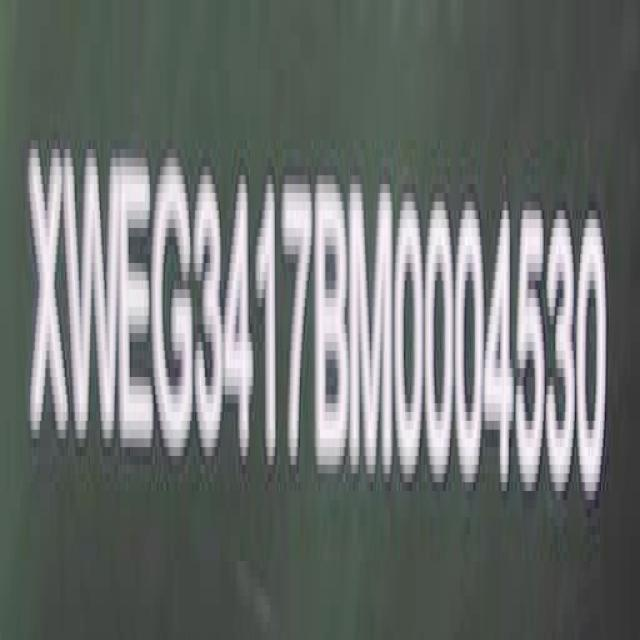0: (395, 192, 428, 485), (425, 197, 456, 488), (579, 218, 610, 497), (457, 201, 486, 491)
1: (256, 170, 279, 474)
3: (194, 169, 228, 469), (550, 210, 578, 494)
4: (222, 171, 255, 473), (484, 202, 514, 492)
5: (517, 208, 547, 492)
7: (283, 172, 316, 480)
B: (314, 175, 350, 479)
E: (120, 156, 158, 462)
G: (153, 154, 195, 462)
M: (348, 167, 394, 477)
W: (66, 144, 120, 458)
X: (28, 137, 66, 449)
